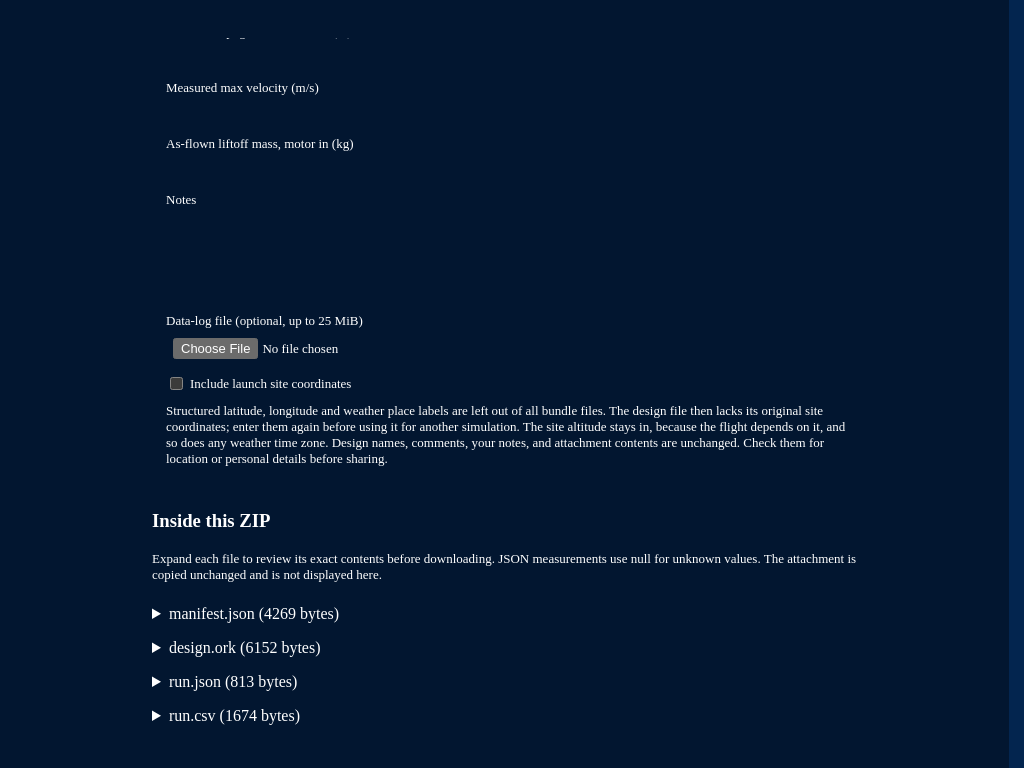
Test case: credits profile-only weather in the run with place credit governed by consent
(page scrolled)
Click the checkbox labelled "Include launch site coordinates" at (176, 384), box x1=170 y1=377 x2=183 y2=390
(page scrolled)
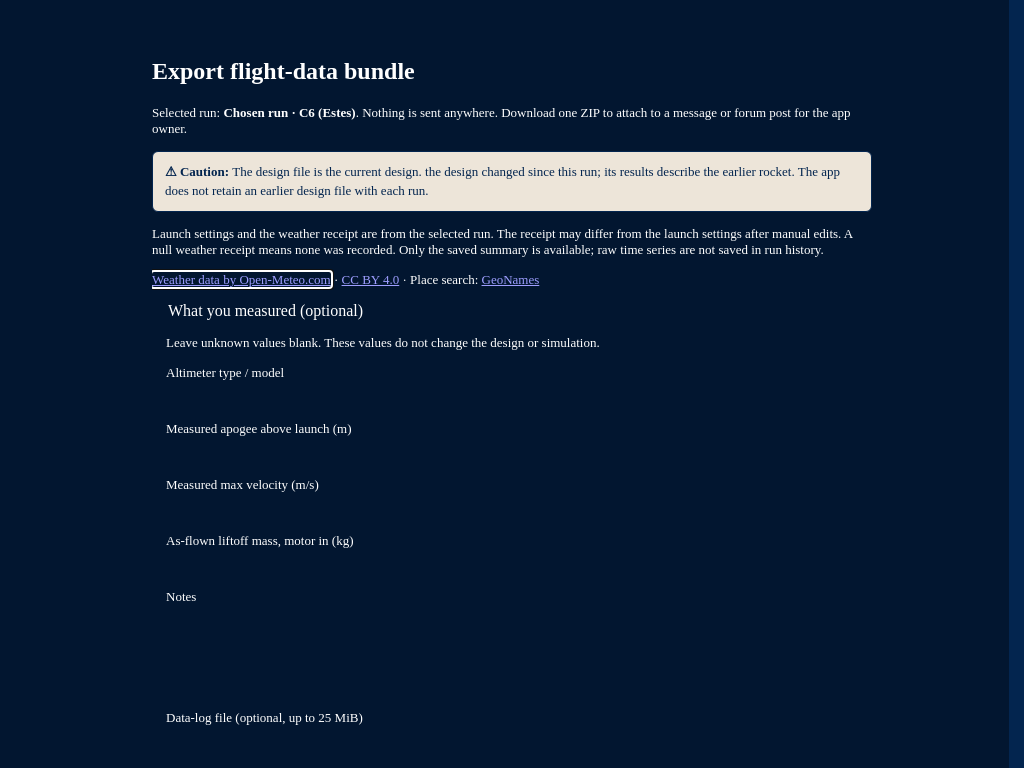
Expected: the link to "https://open-meteo.com/" is shown, x1=152 y1=272 x2=331 y2=287
Expected: the link to "https://www.geonames.org/" is shown, x1=482 y1=272 x2=539 y2=287
